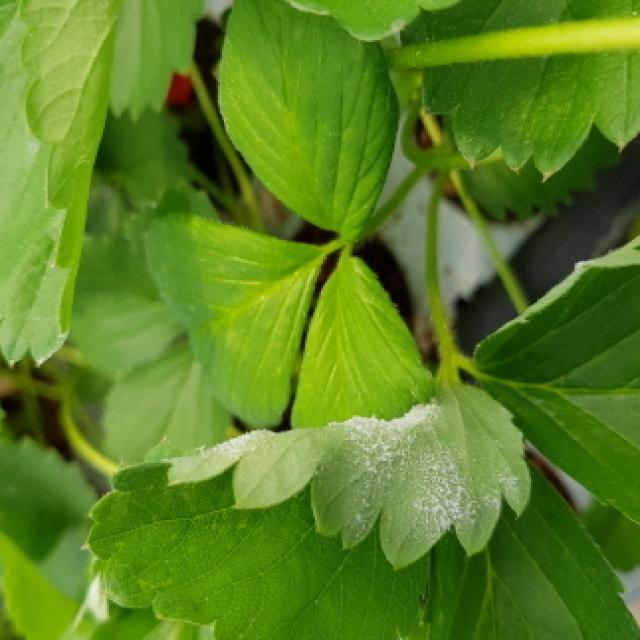Powdery Mildew Leaf: (84, 375, 533, 640)
